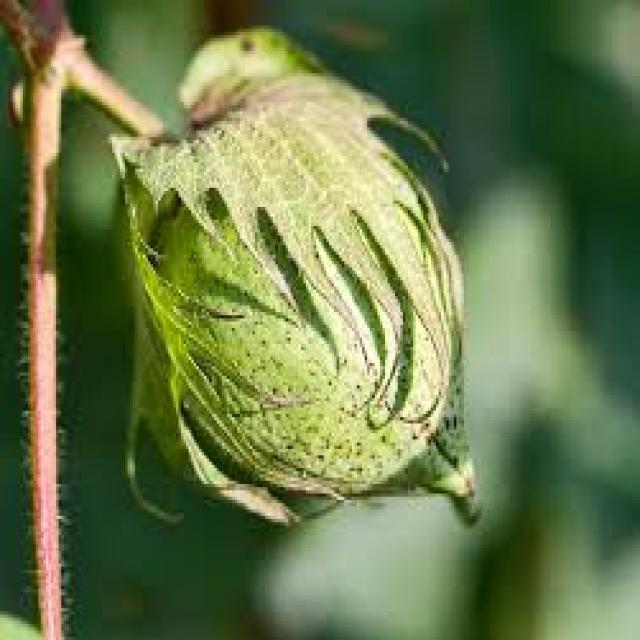Early Boll: (109, 29, 488, 525)
